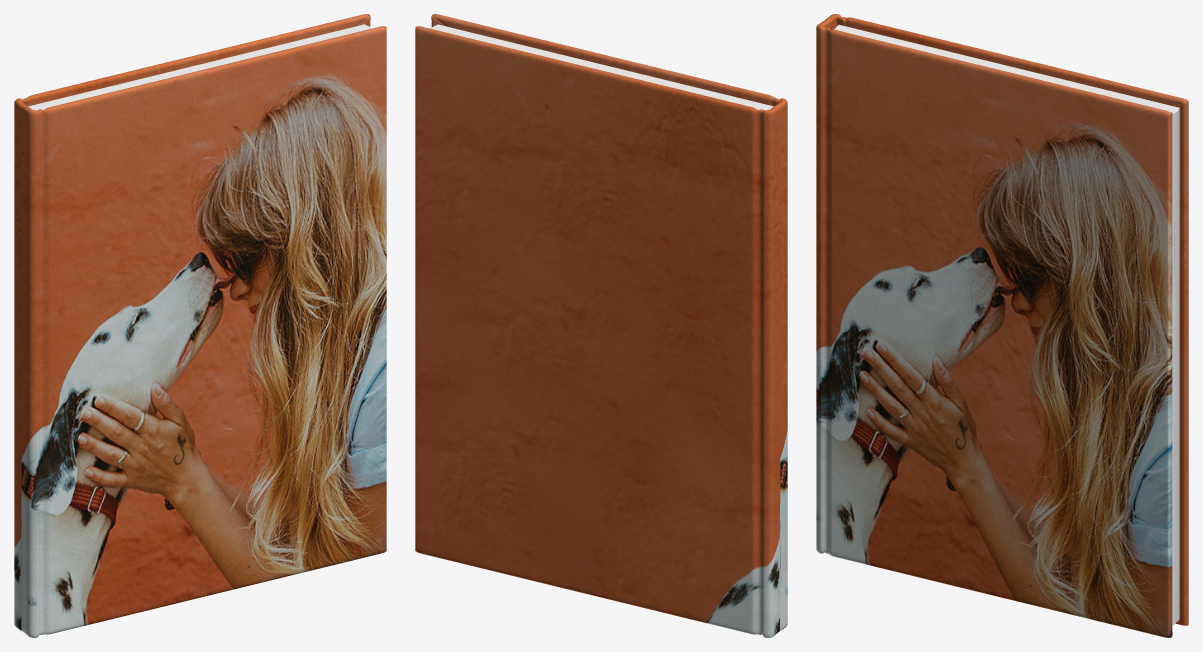
Rendered from book.glb.
The picture shows the model from 3 angles, left to right: view 1: azimuth 30°, elevation 25°; view 2: azimuth 150°, elevation 25°; view 3: azimuth 330°, elevation 25°; orthographic projection.
Visible parts, largest first — view 1: book_01; view 2: book_01; view 3: book_01.
Part boxes in pixels (left/top/right/bottom): book_01: left=14, top=14, right=386, bottom=637; book_01: left=415, top=14, right=787, bottom=637; book_01: left=816, top=14, right=1188, bottom=637.
Size of the model in its own units: 1.13 by 1.6 by 0.1128.
1 material, 1 textured.
